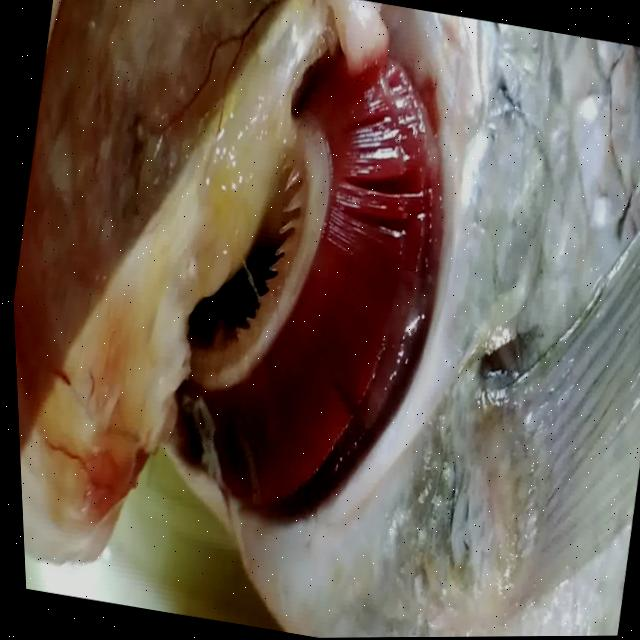Fresh: (170, 0, 495, 593)
